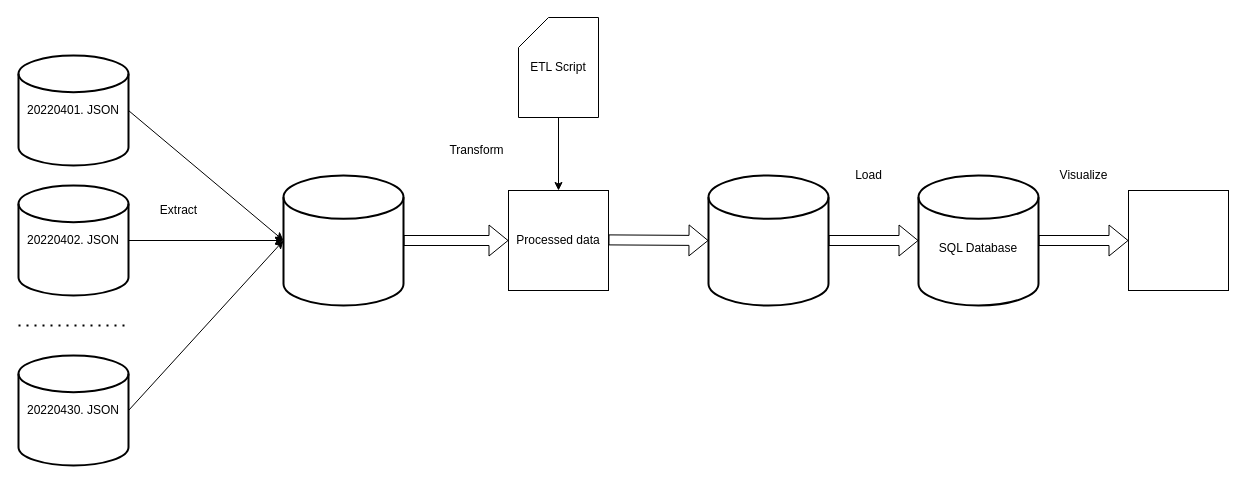
Image size: 1246x484. Some labels were removed from this diagram. The centre of each missing label's shape, as x and y in pixels:
Clean Data (OLAP Data): the point at 768,240
Power BI: the point at 1178,240
Raw Data (OLTP Data): the point at 343,240
